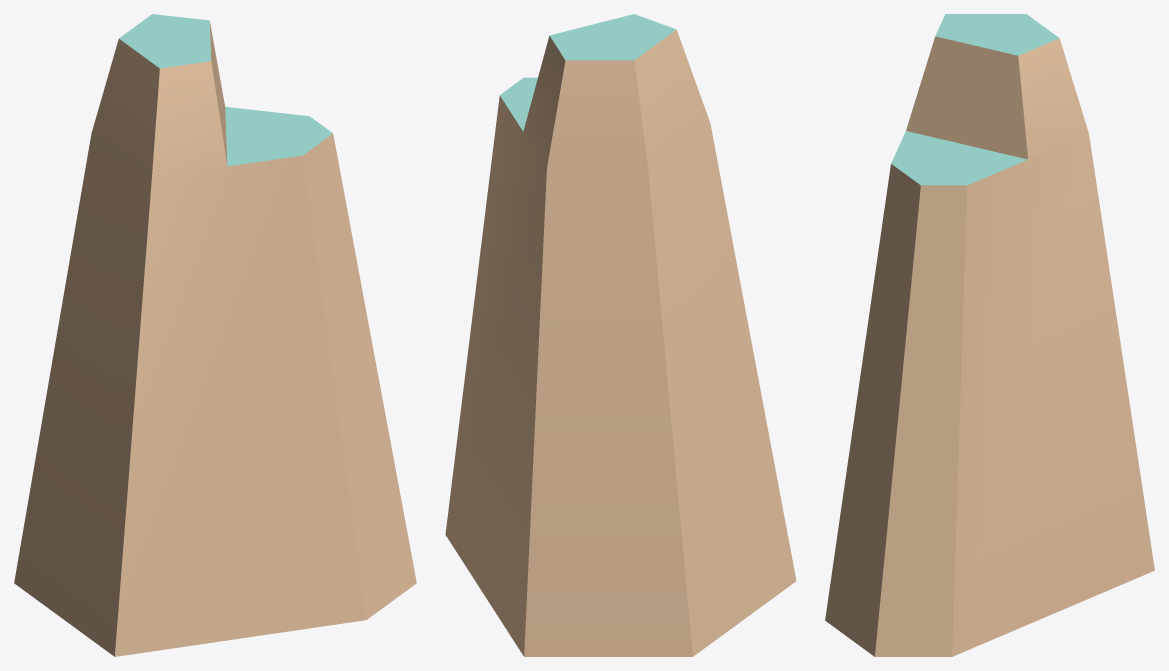
Rendered from rock_tall3.glb.
3 renders of one model, left to right at view 1: azimuth 30°, elevation 25°; view 2: azimuth 150°, elevation 25°; view 3: azimuth 270°, elevation 25°, orthographic. The views are drawn at different scales.
Parts seen in each view (by area): view 1: rock_tall3; view 2: rock_tall3; view 3: rock_tall3.
Part boxes in pixels (x1,y1,x2,y2): rock_tall3: (14, 14, 416, 656); rock_tall3: (445, 14, 796, 656); rock_tall3: (825, 14, 1154, 656).
Size of the model in its own units: 0.4562 by 0.7829 by 0.4365.
